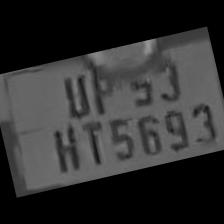3: (183, 96, 220, 148), (148, 53, 184, 103)
5: (118, 56, 158, 110), (100, 111, 138, 164)
6: (130, 109, 166, 159)
9: (157, 102, 194, 154)
H: (44, 119, 86, 176)
P: (80, 58, 122, 118)
T: (75, 116, 110, 168)
U: (54, 67, 94, 121)
